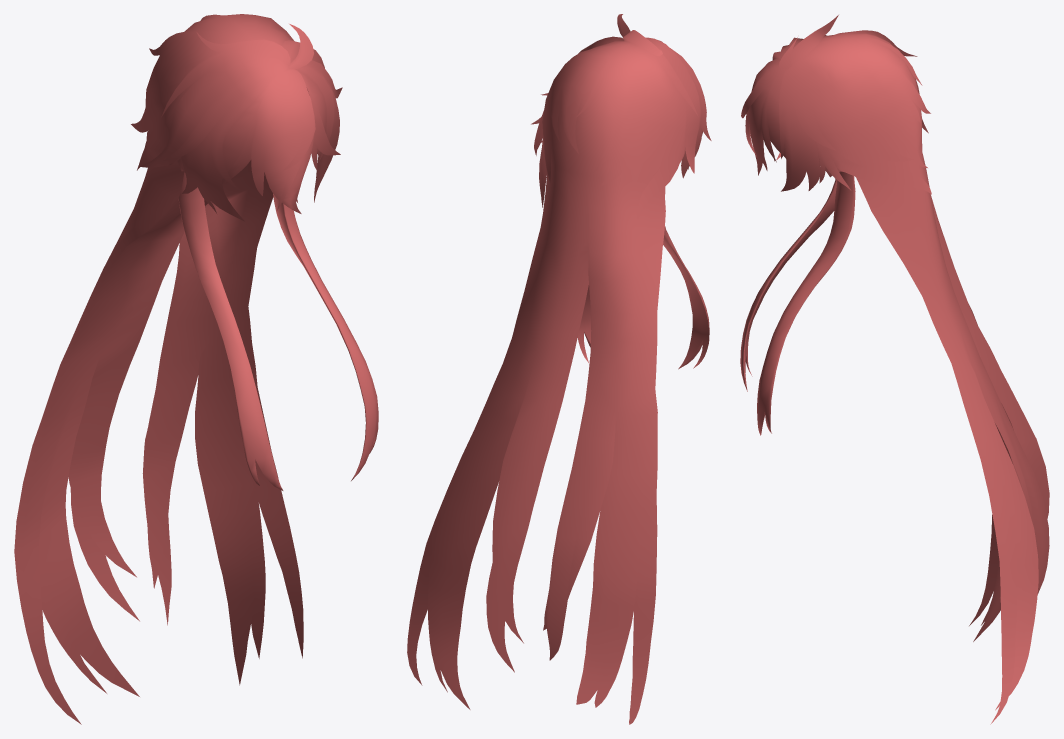
Rendered from Hair.fbx.
The picture shows the model from 3 angles, left to right: view 1: azimuth 30°, elevation 25°; view 2: azimuth 150°, elevation 25°; view 3: azimuth 270°, elevation 25°; orthographic projection. The views are drawn at different scales.
Visible parts, largest first — view 1: Hair; view 2: Hair; view 3: Hair.
Part boxes in pixels (x1,y1,x2,y2): Hair: [14, 14, 378, 724]; Hair: [407, 14, 711, 724]; Hair: [740, 15, 1049, 724].
Bounding box in the file's own units: 35.04 × 87.52 × 37.83.
